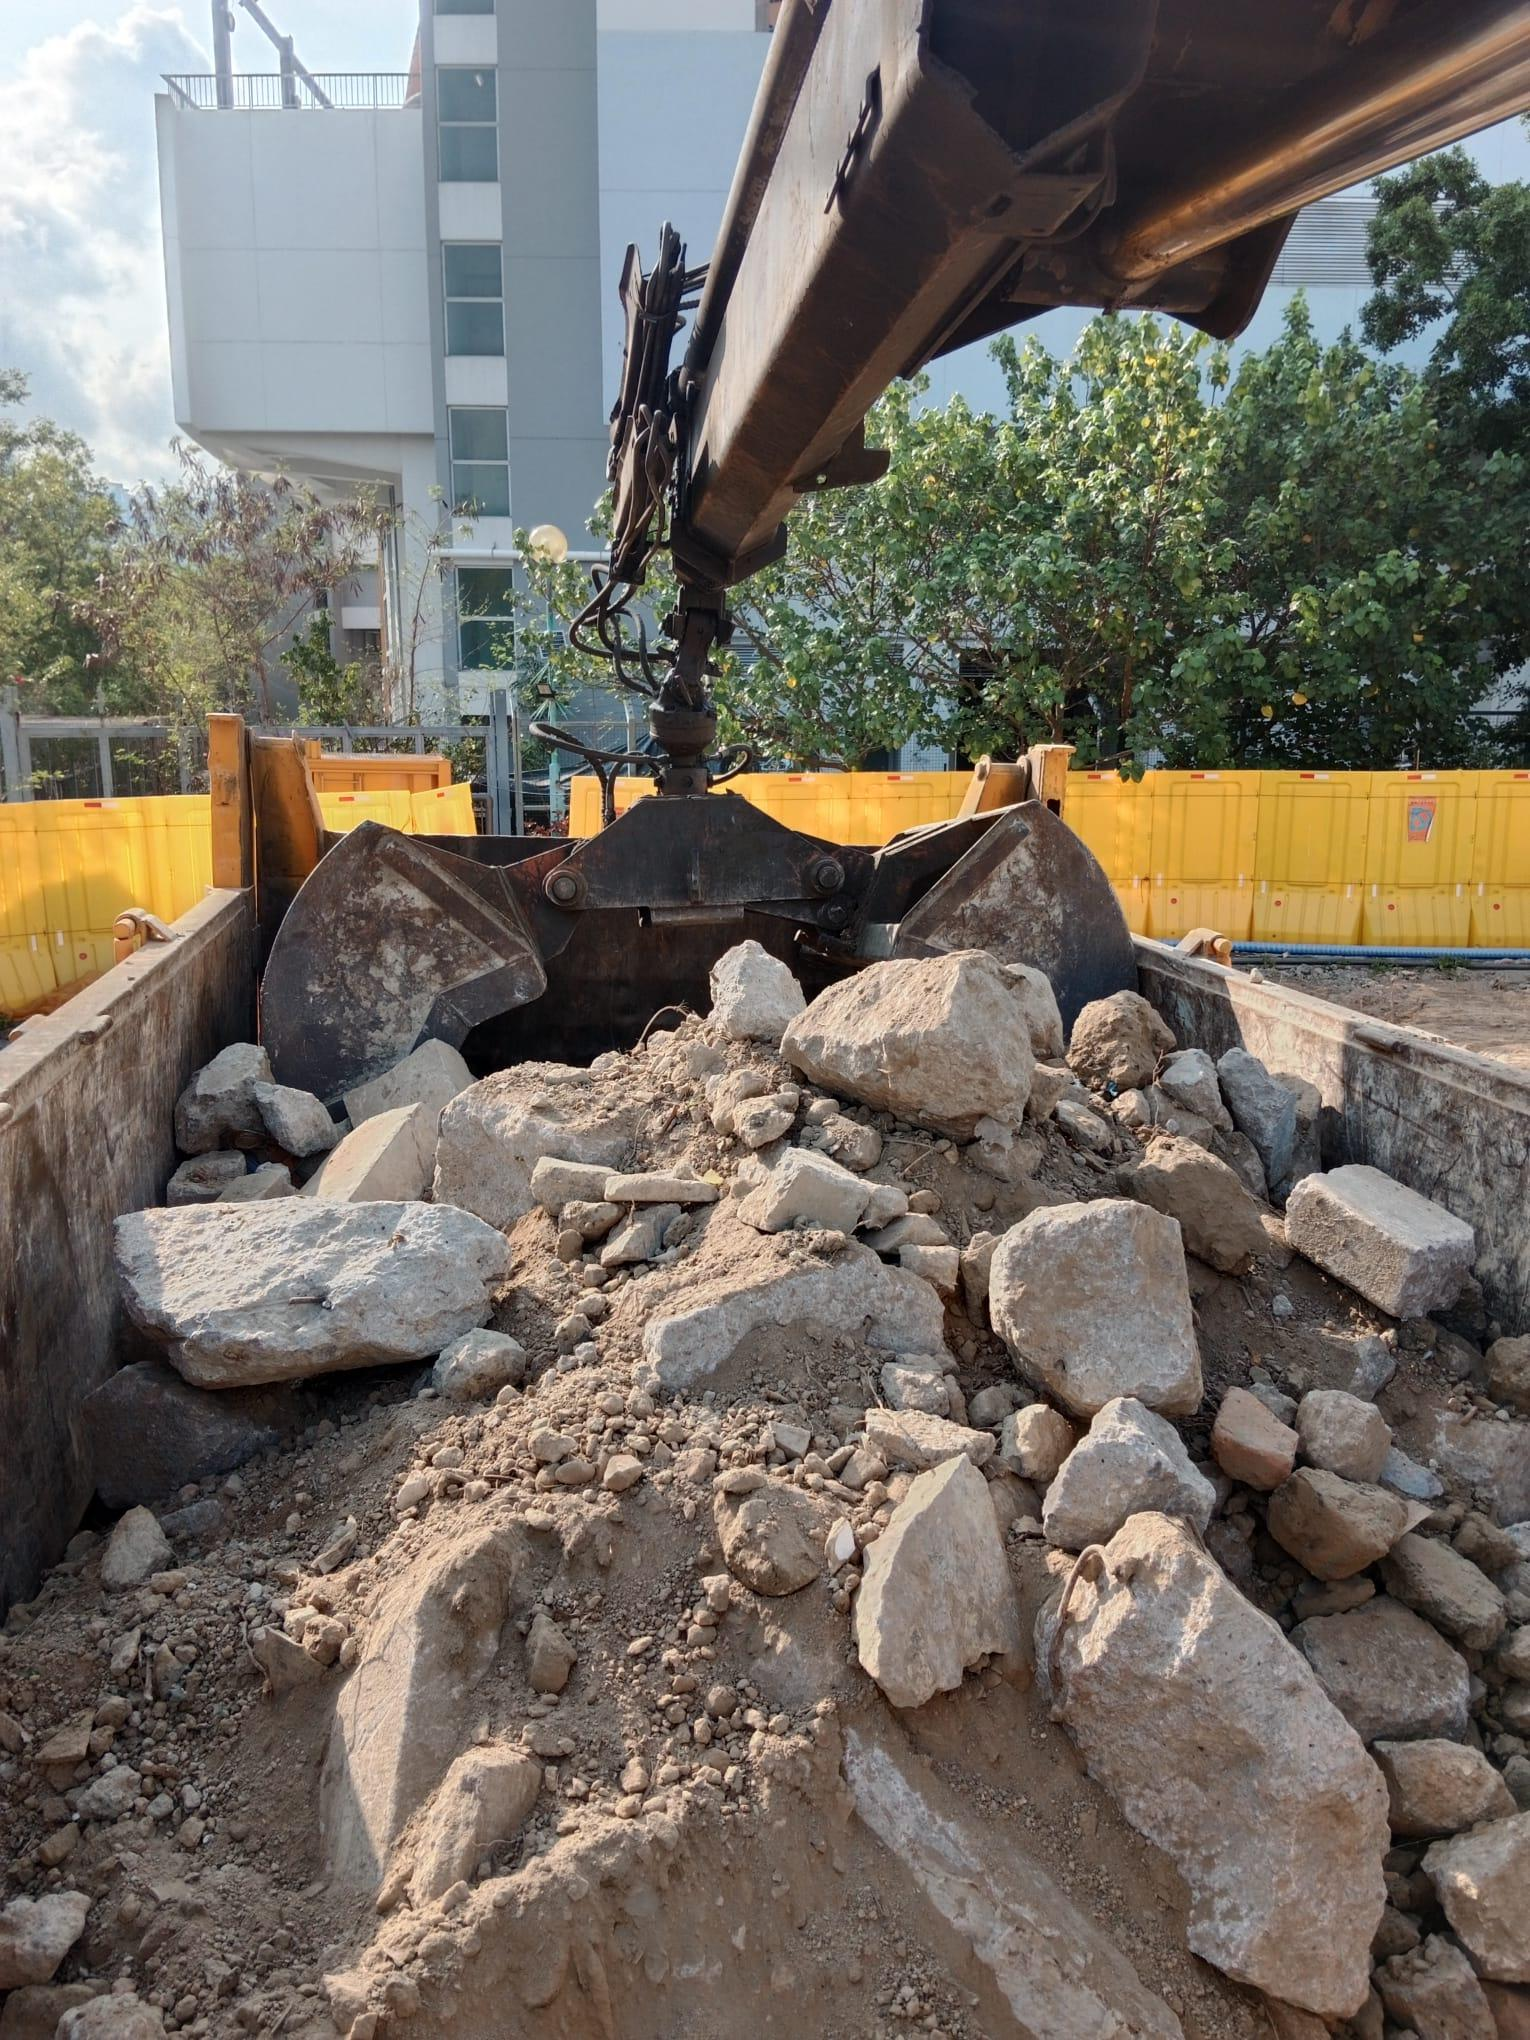dirt: (2, 940, 1528, 2037)
stone: (1030, 1508, 1392, 2014), (109, 1193, 509, 1389), (644, 1255, 959, 1414), (985, 1193, 1204, 1418), (778, 946, 1037, 1136), (850, 1449, 1024, 1707), (1282, 1160, 1475, 1320), (1038, 1393, 1215, 1553), (1263, 1463, 1427, 1581), (714, 1468, 839, 1595)
